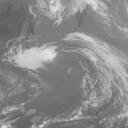cyclone: (41, 32, 106, 92)
